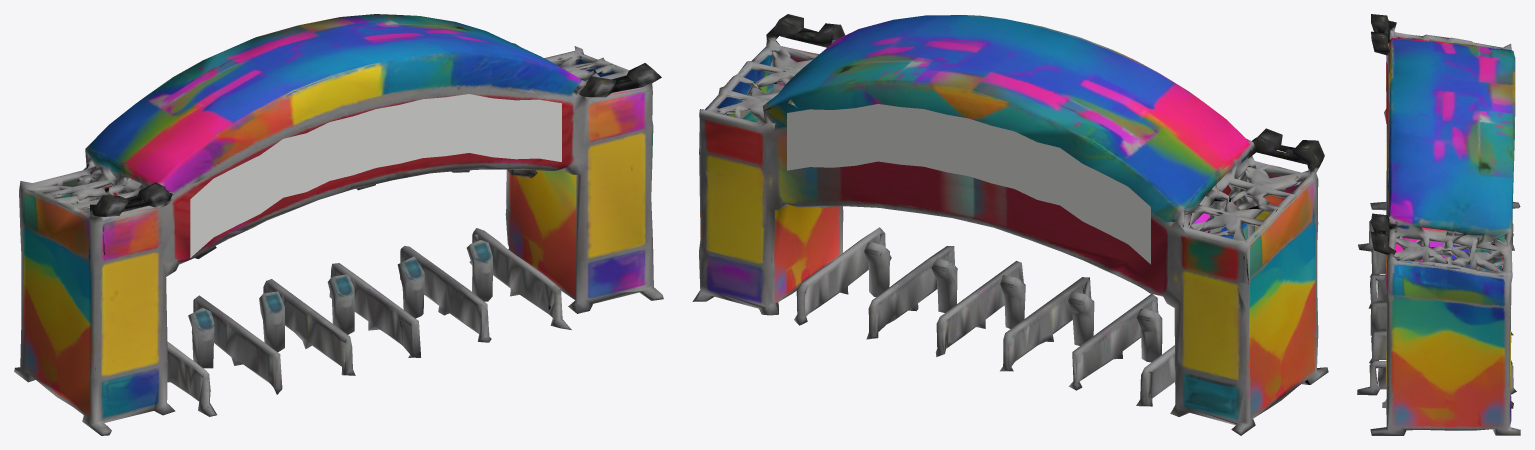
Rendered from fest_entry_gate.glb.
3 renders of one model, left to right at view 1: azimuth 30°, elevation 25°; view 2: azimuth 150°, elevation 25°; view 3: azimuth 270°, elevation 25°, orthographic. The views are drawn at different scales.
Parts seen in each view (by area): view 1: fest_entry_gate, sign_panel; view 2: fest_entry_gate, back_sign_panel; view 3: fest_entry_gate.
Part boxes in pixels (<box>): fest_entry_gate: <box>14,14,663,435</box>; sign_panel: <box>190,94,561,257</box>; fest_entry_gate: <box>692,14,1328,435</box>; back_sign_panel: <box>787,104,1150,264</box>; fest_entry_gate: <box>1357,14,1520,435</box>.
Size of the model in its own units: 20 by 10 by 6.
3 materials, 1 textured.
